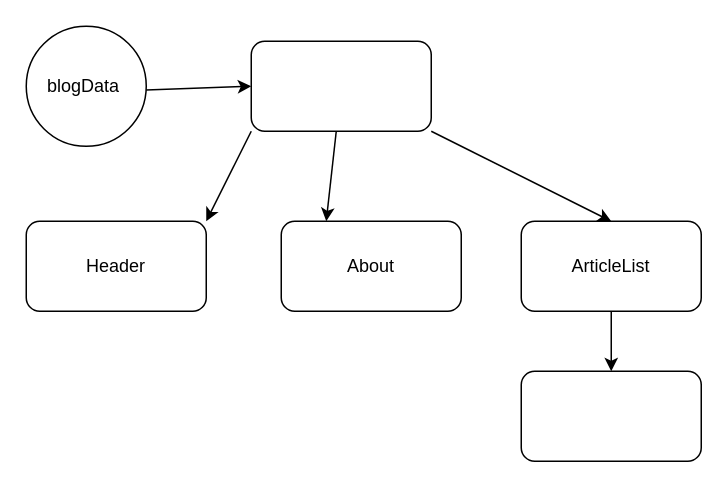
Image size: 728x488. Some labels were removed from this diagram. Here are the shapes that lost their labels. From the top down, the centre of each, then its label:
(x=340, y=85): App
(x=610, y=415): Article
